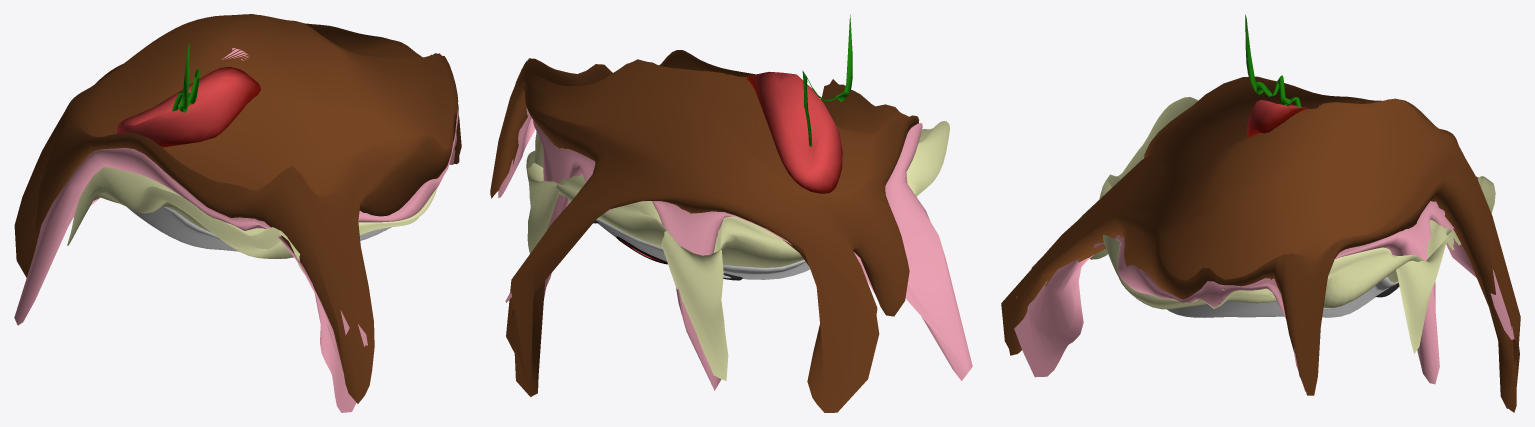
File: Smiling Ice Cream SF 3.fbx
The picture shows the model from 3 angles, left to right: view 1: azimuth 30°, elevation 25°; view 2: azimuth 150°, elevation 25°; view 3: azimuth 270°, elevation 25°; orthographic projection. The views are drawn at different scales.
Parts seen in each view (by area): view 1: IceCream; view 2: IceCream; view 3: IceCream.
Part boxes in pixels (x1,y1,x2,y2): IceCream: (14, 14, 461, 412); IceCream: (490, 14, 972, 412); IceCream: (1001, 14, 1520, 412).
Bounding box in the file's own units: 1.41 × 1.36 × 0.9569.
